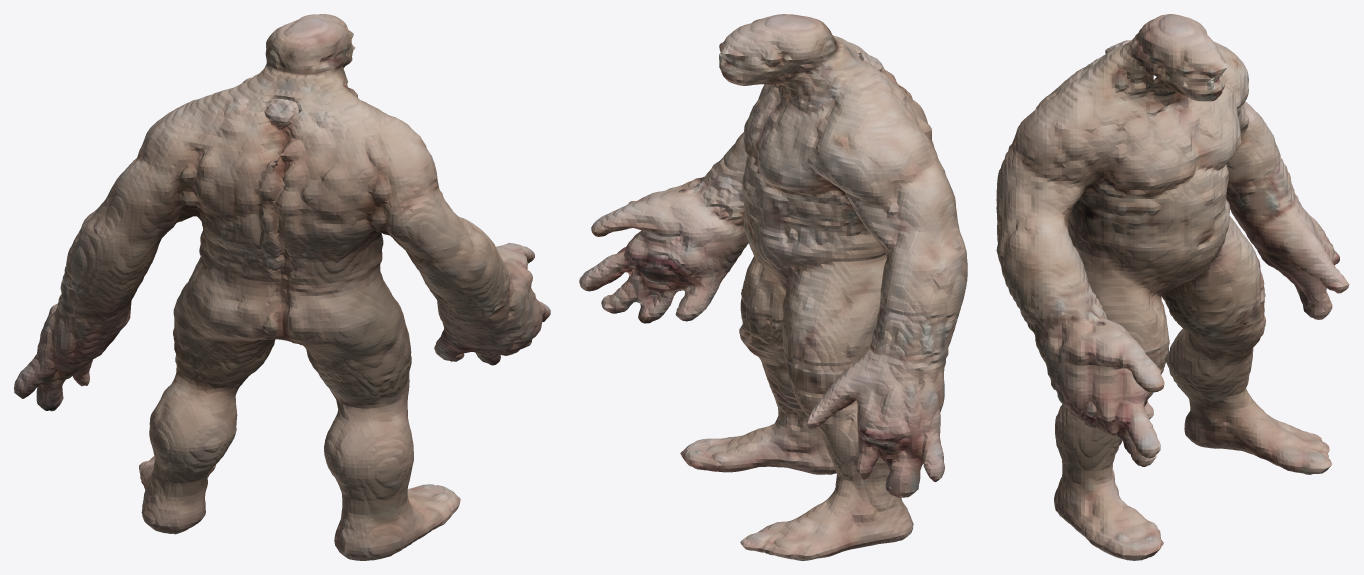
File: dread_stone_black_test_model_01.glb
The picture shows the model from 3 angles, left to right: view 1: azimuth 30°, elevation 25°; view 2: azimuth 150°, elevation 25°; view 3: azimuth 270°, elevation 25°; orthographic projection. The views are drawn at different scales.
Visible parts, largest first — view 1: world; view 2: world; view 3: world.
Part boxes in pixels (box(x1,y1,x2,y2)): world: box(14, 14, 550, 560); world: box(579, 14, 967, 560); world: box(996, 14, 1349, 560).
Size of the model in its own units: 0.9005 by 0.9539 by 0.6298.
